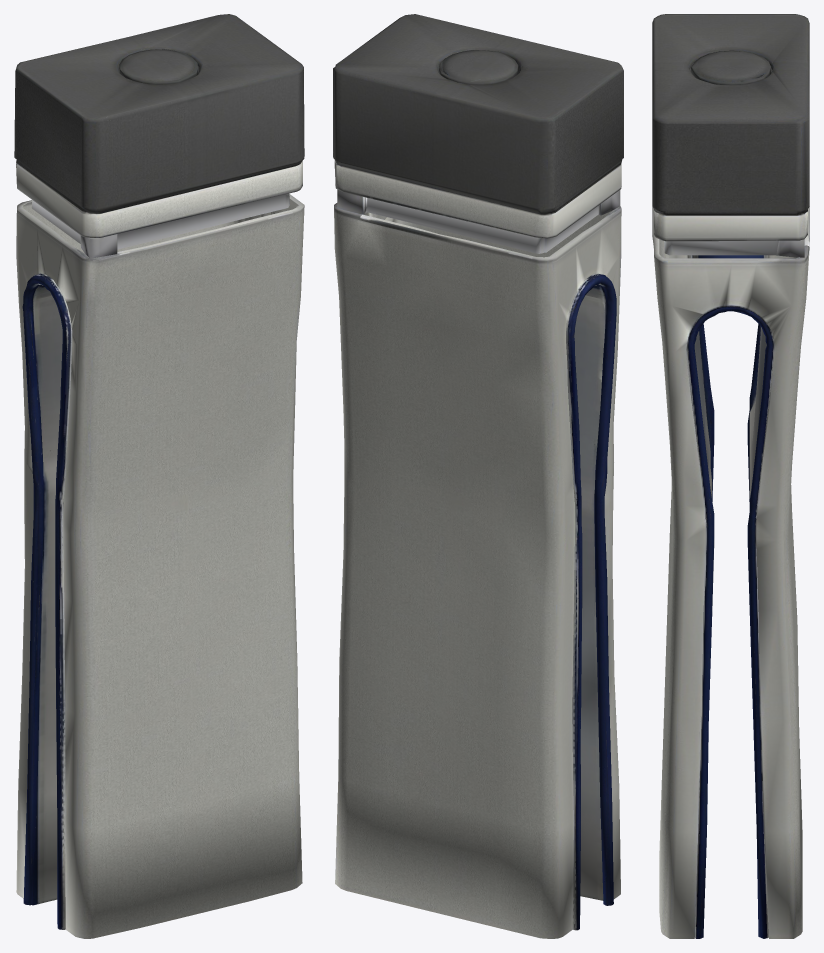
The model's file is tripo_convert_2b7ba880-858b-4eda-ba77-595171dd4c0e.fbx.
3 renders of one model, left to right at view 1: azimuth 30°, elevation 25°; view 2: azimuth 150°, elevation 25°; view 3: azimuth 270°, elevation 25°, orthographic.
Parts seen in each view (by area): view 1: tripo_node_2b7ba880; view 2: tripo_node_2b7ba880; view 3: tripo_node_2b7ba880.
Part boxes in pixels (bbox=[...]): tripo_node_2b7ba880: bbox=[14, 14, 304, 938]; tripo_node_2b7ba880: bbox=[333, 14, 623, 938]; tripo_node_2b7ba880: bbox=[652, 14, 809, 938].
Size of the model in its own units: 0.291 by 0.998 by 0.1738.
1 material, 1 textured.
